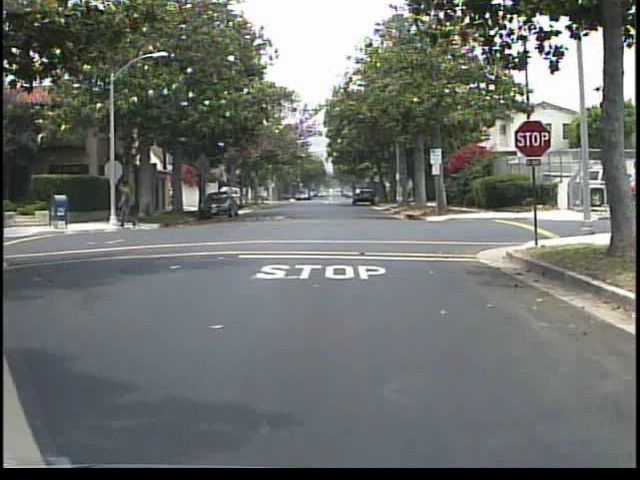person: (113, 175, 140, 233)
